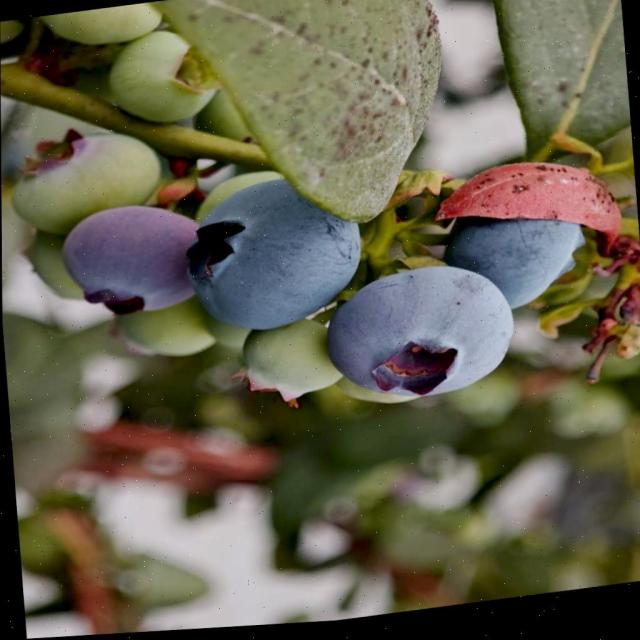RipeBlueBerry: (184, 174, 368, 359), (308, 263, 516, 425)
Semi-RipeBlueBerry: (53, 194, 195, 346)
